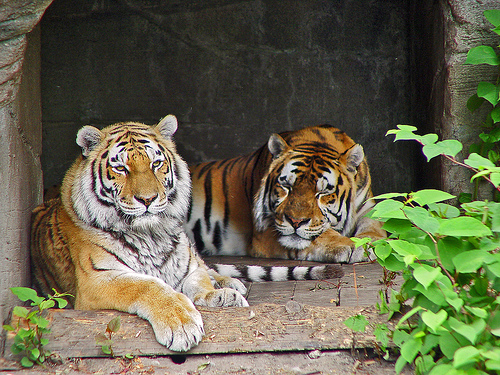Tigre: (34, 109, 241, 339), (215, 119, 393, 274)
